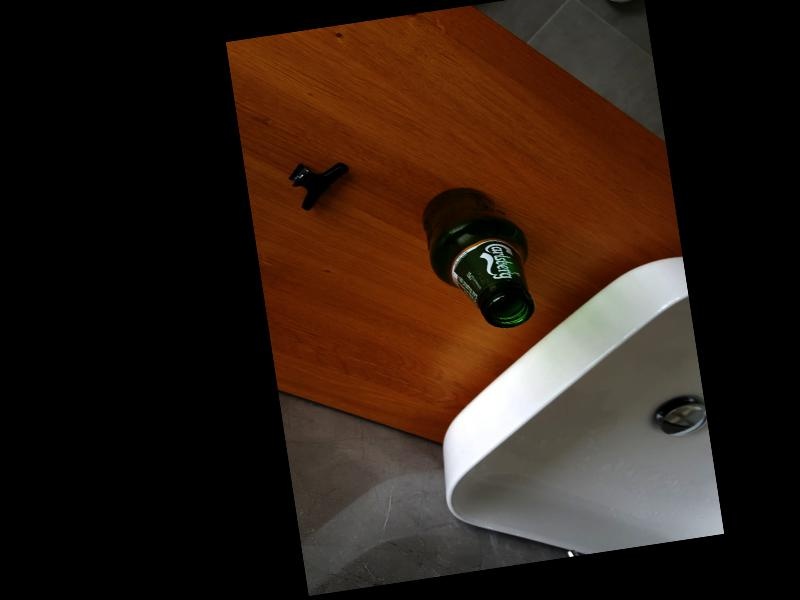Beer: (420, 178, 537, 336)
